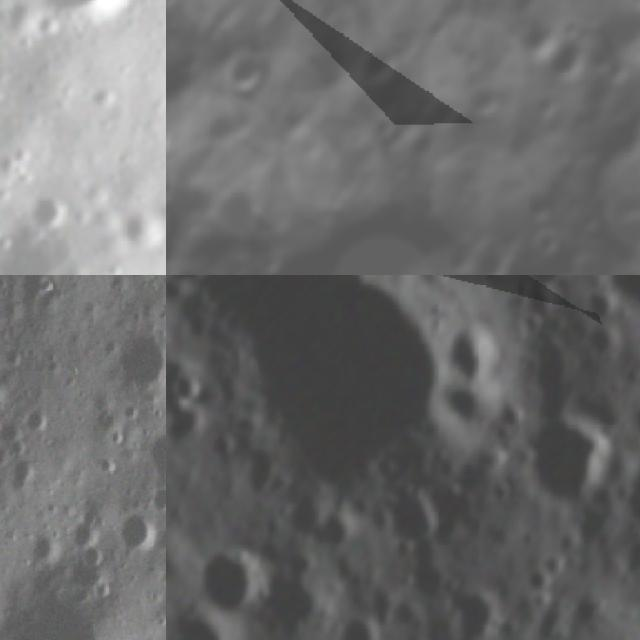crater: (166, 275, 484, 504), (522, 401, 622, 522), (3, 0, 166, 71), (271, 22, 371, 123), (560, 80, 640, 199), (188, 534, 280, 633), (187, 82, 271, 168), (372, 484, 443, 560), (107, 322, 166, 402), (2, 245, 154, 275), (212, 37, 278, 106), (539, 26, 603, 94), (449, 318, 510, 386), (439, 382, 500, 442), (454, 73, 511, 133), (449, 585, 510, 640), (316, 511, 367, 563), (114, 510, 164, 559), (287, 490, 335, 540), (166, 605, 230, 640), (569, 591, 610, 640), (63, 518, 107, 561), (600, 275, 640, 322), (20, 528, 60, 574), (409, 566, 454, 606), (333, 608, 386, 640), (581, 287, 618, 331), (140, 426, 166, 480), (370, 456, 409, 487), (24, 401, 54, 437), (172, 370, 200, 407), (166, 524, 183, 584), (166, 0, 201, 23), (147, 482, 166, 519), (517, 275, 579, 286)
